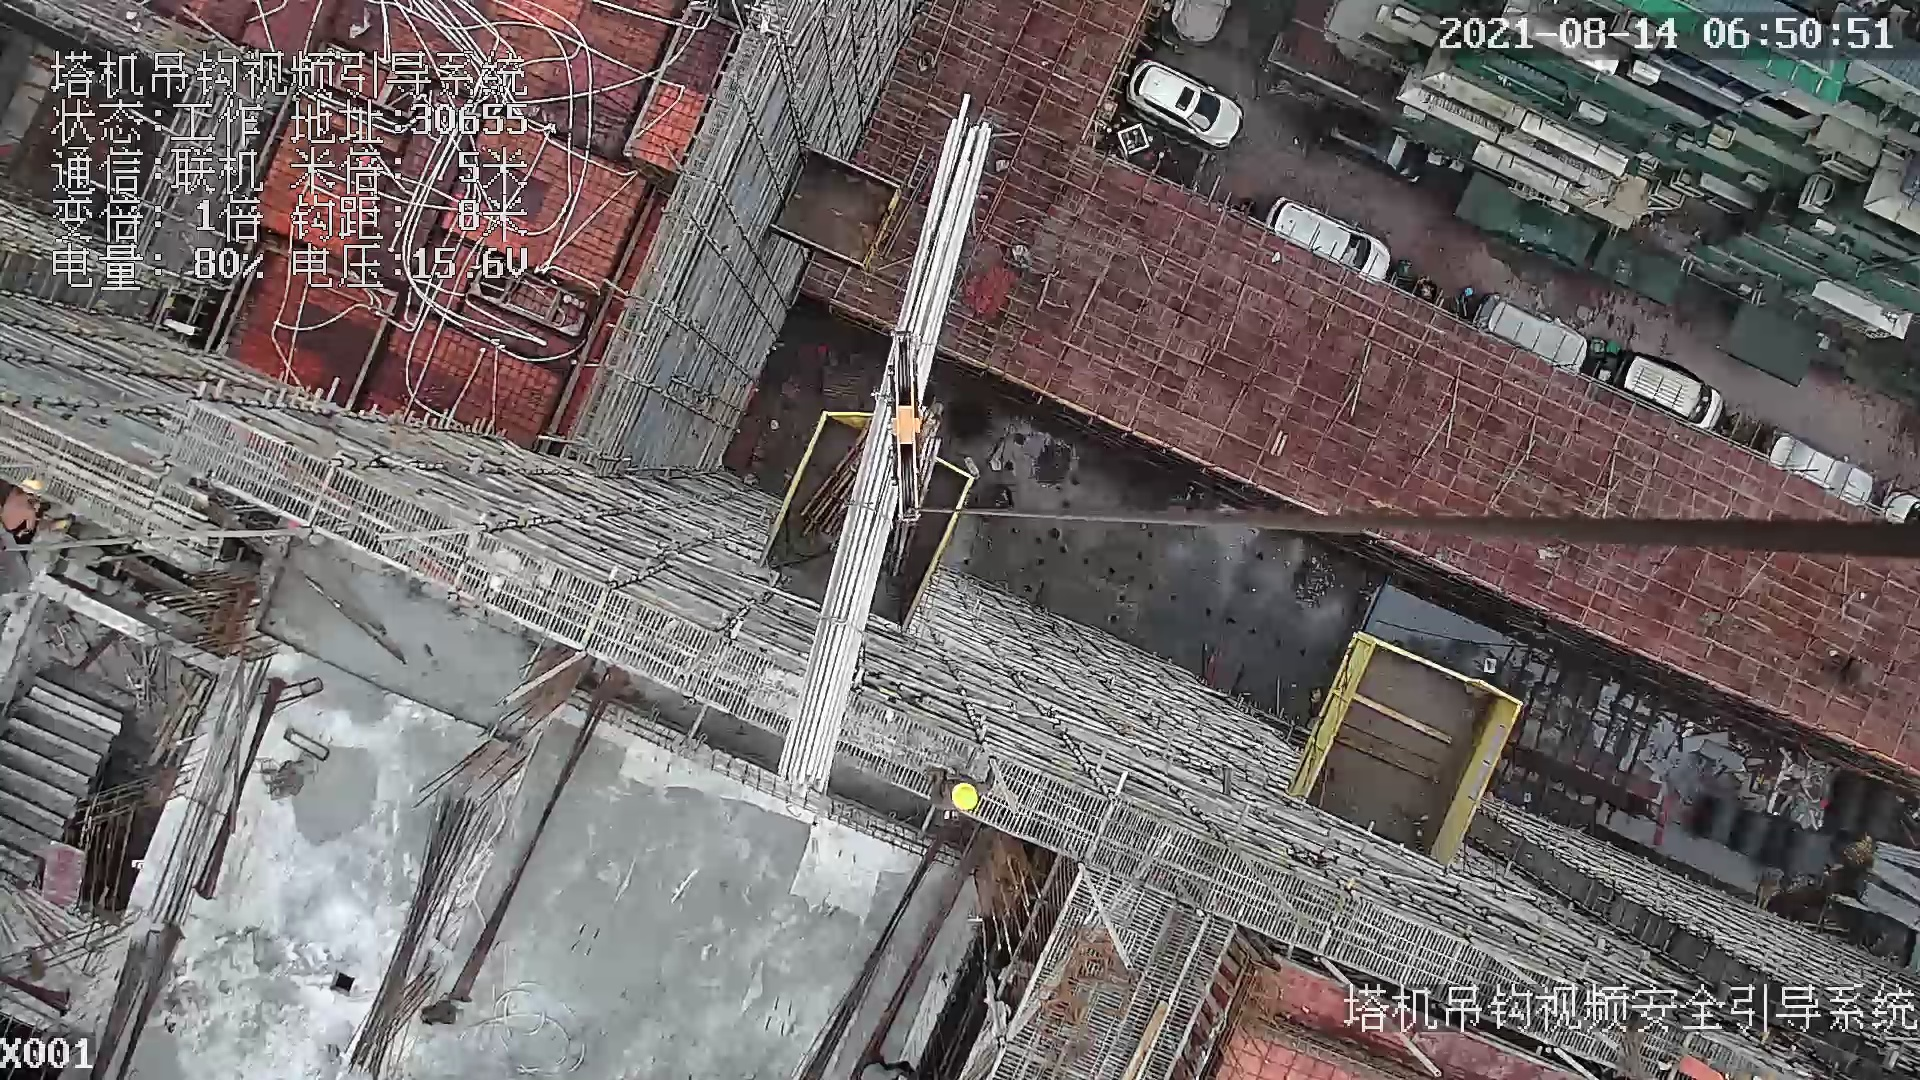helmet: (948, 777, 981, 812)
hook: (877, 323, 937, 530)
person: (919, 760, 996, 831), (1, 472, 49, 551)
